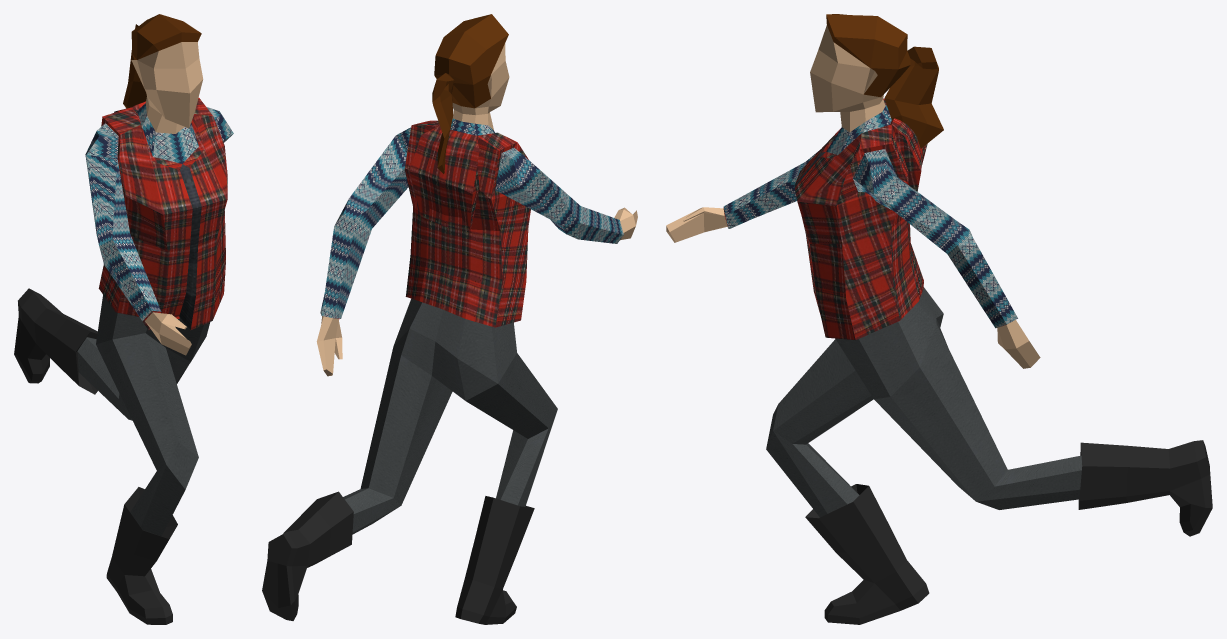
File: AutumnWomanA.008.glb
The picture shows the model from 3 angles, left to right: view 1: azimuth 30°, elevation 25°; view 2: azimuth 150°, elevation 25°; view 3: azimuth 270°, elevation 25°; orthographic projection. The views are drawn at different scales.
Visible parts, largest first — view 1: AutumnWomanA.008; view 2: AutumnWomanA.008; view 3: AutumnWomanA.008.
Boxes of the visible parts, x1,y1,x2,y2 form: AutumnWomanA.008: (14, 14, 233, 624); AutumnWomanA.008: (262, 14, 637, 624); AutumnWomanA.008: (666, 14, 1212, 624).
Bounding box in the file's own units: 0.4727 × 1.53 × 1.24.
1 material, 1 textured.
